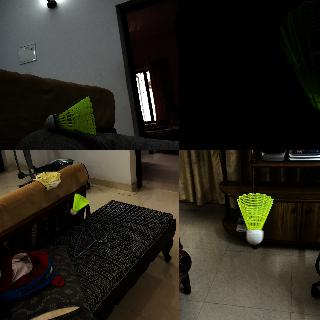shuttlecock: (278, 0, 319, 130), (44, 96, 96, 134), (236, 192, 272, 244), (70, 193, 88, 215)
